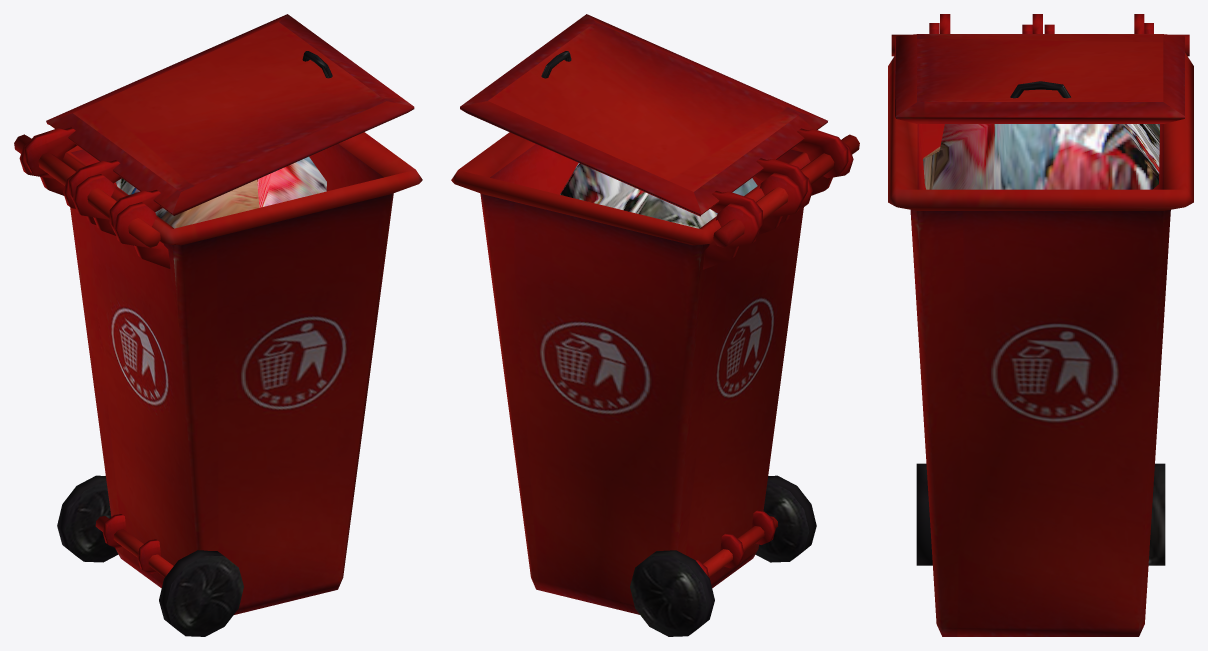
File: ven_trash_red.fbx
The picture shows the model from 3 angles, left to right: view 1: azimuth 30°, elevation 25°; view 2: azimuth 150°, elevation 25°; view 3: azimuth 270°, elevation 25°; orthographic projection. The views are drawn at different scales.
Parts seen in each view (by area): view 1: trashredBody, trashRedTop, garbage; view 2: trashredBody, trashRedTop, garbage; view 3: trashredBody, trashRedTop, garbage.
Part boxes in pixels (box(x1,y1,x2,y2)): trashredBody: box(19, 132, 422, 636); trashRedTop: box(14, 14, 414, 247); garbage: box(115, 156, 326, 228); trashredBody: box(451, 132, 853, 636); trashRedTop: box(460, 14, 859, 247); garbage: box(560, 163, 757, 228); trashredBody: box(888, 23, 1193, 636); trashRedTop: box(891, 14, 1189, 123); garbage: box(923, 124, 1159, 189).
Size of the model in its own units: 1.19 by 1.97 by 0.9541.
